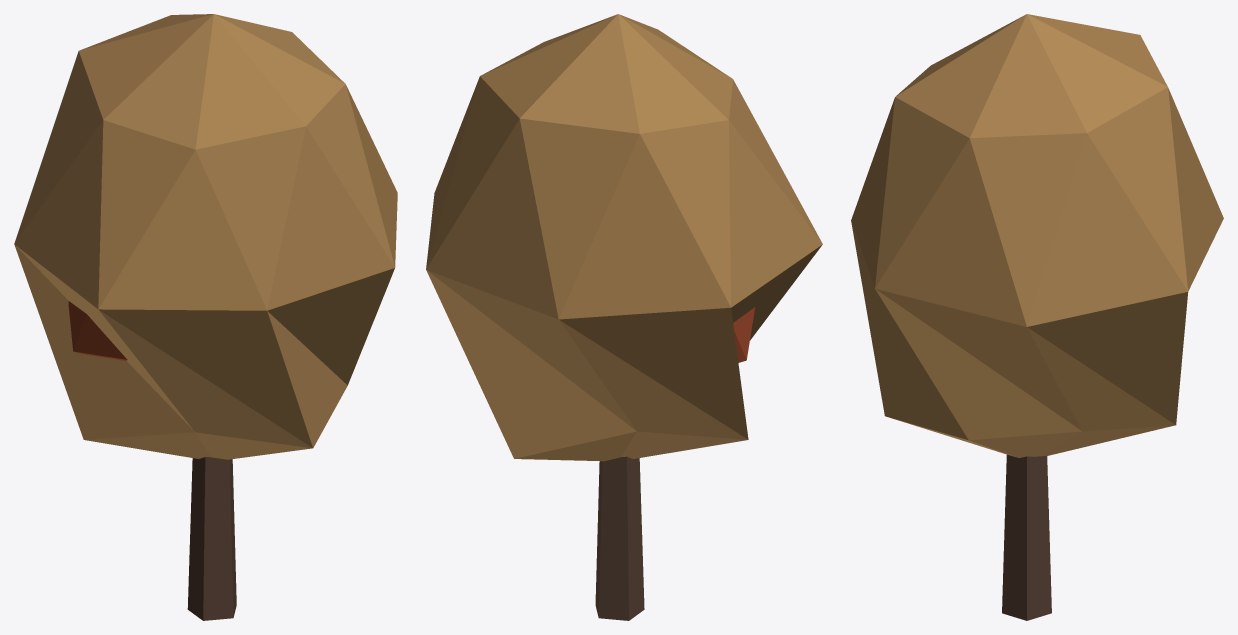
File: tree_maple.glb
The picture shows the model from 3 angles, left to right: view 1: azimuth 30°, elevation 25°; view 2: azimuth 150°, elevation 25°; view 3: azimuth 270°, elevation 25°; orthographic projection.
Parts seen in each view (by area): view 1: tree_maple_Crown, tree_maple; view 2: tree_maple_Crown, tree_maple; view 3: tree_maple_Crown, tree_maple.
Part boxes in pixels (bbox=[...]): tree_maple_Crown: bbox=[14, 14, 397, 459]; tree_maple: bbox=[187, 457, 236, 620]; tree_maple_Crown: bbox=[426, 14, 822, 461]; tree_maple: bbox=[595, 456, 644, 620]; tree_maple_Crown: bbox=[851, 14, 1223, 457]; tree_maple: bbox=[1002, 454, 1051, 620].
Bounding box in the file's own units: 2.41 × 4 × 2.27.
